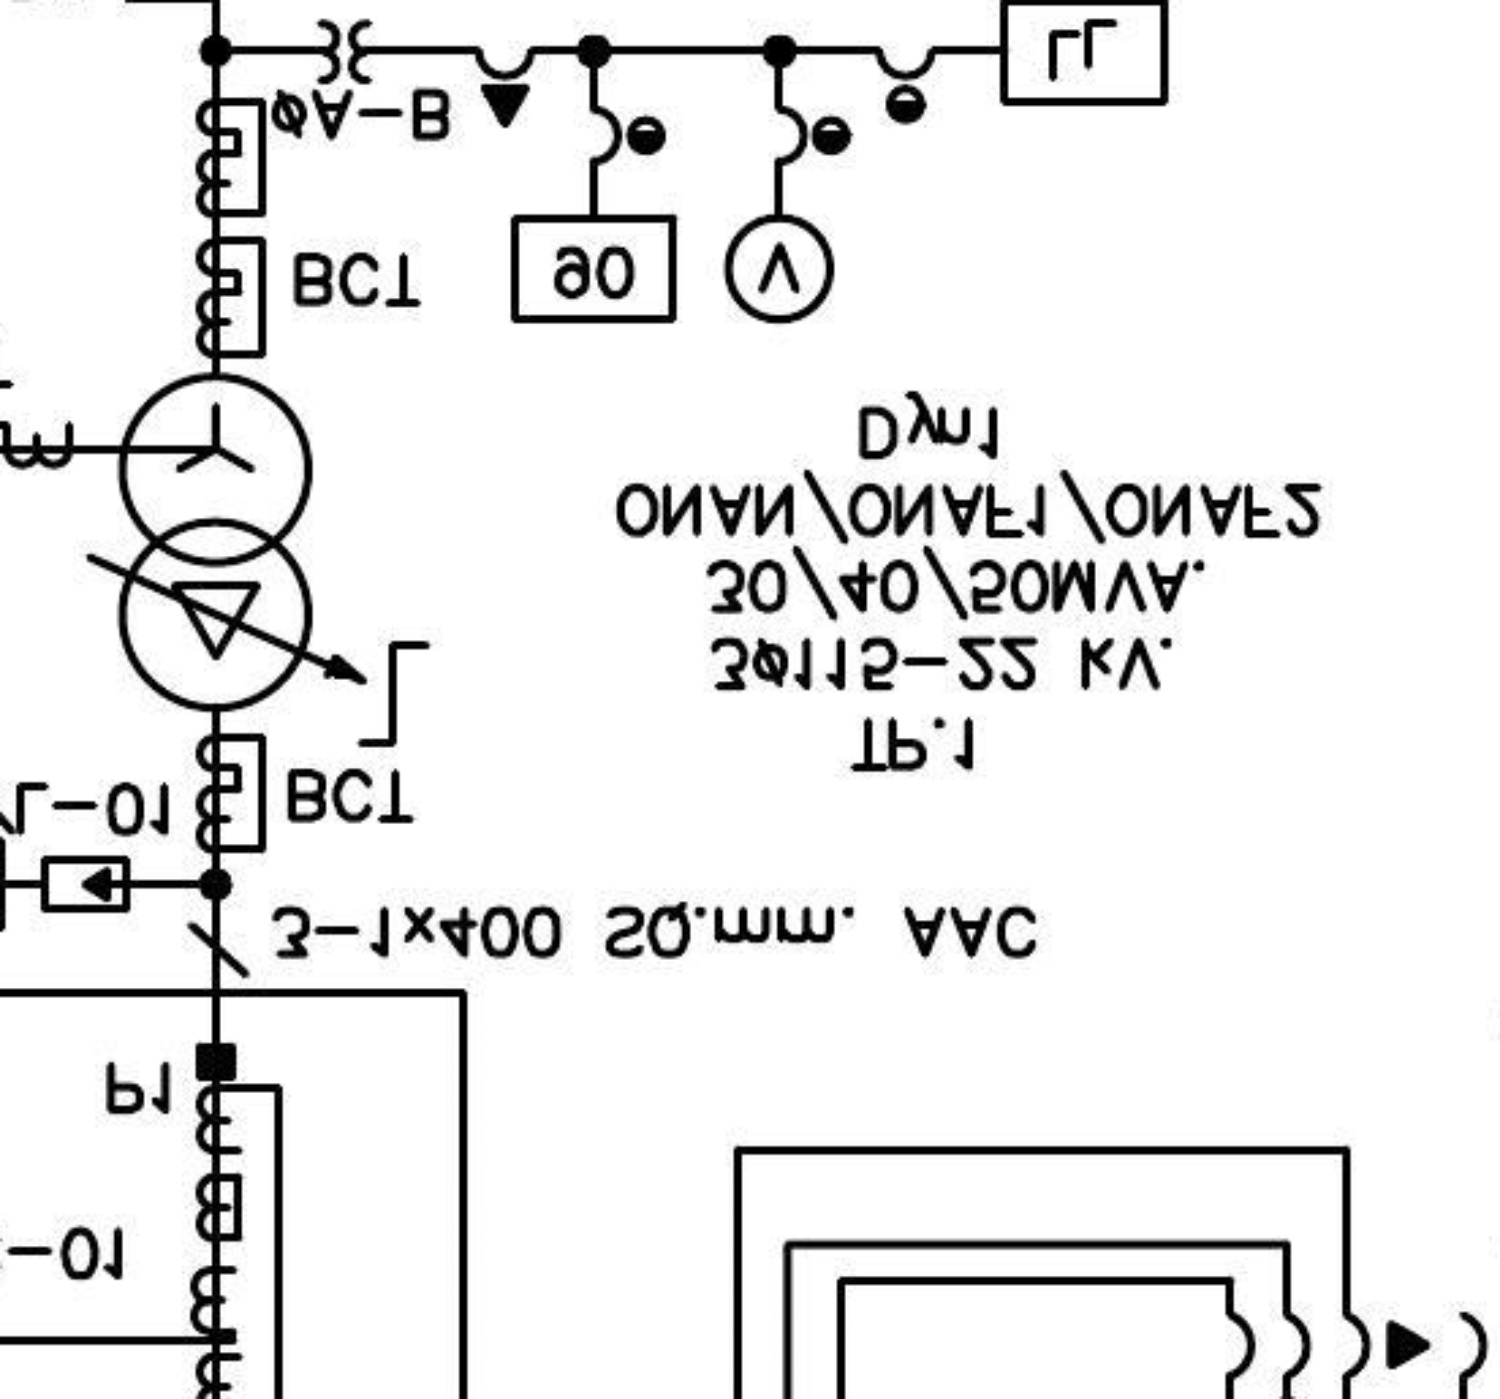11522_tx_dyn1: (116, 371, 316, 714)
v_m: (720, 212, 837, 326)
